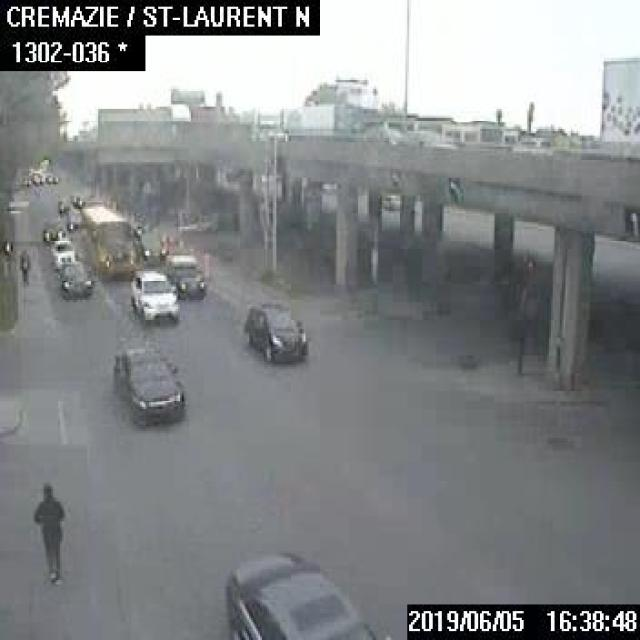bus: (81, 205, 142, 279)
pedestrian: (28, 476, 66, 580), (16, 242, 31, 282)
vehicle: (222, 549, 391, 638), (109, 342, 187, 427), (240, 298, 307, 360), (128, 270, 174, 322), (168, 252, 205, 299), (56, 257, 94, 298), (132, 228, 167, 262), (503, 134, 555, 156), (396, 127, 450, 146), (48, 238, 79, 270), (41, 212, 66, 244), (64, 206, 82, 230), (55, 194, 70, 212), (81, 196, 102, 208), (76, 193, 88, 206), (44, 172, 57, 183), (31, 172, 44, 182), (70, 192, 79, 204), (21, 175, 30, 183)
